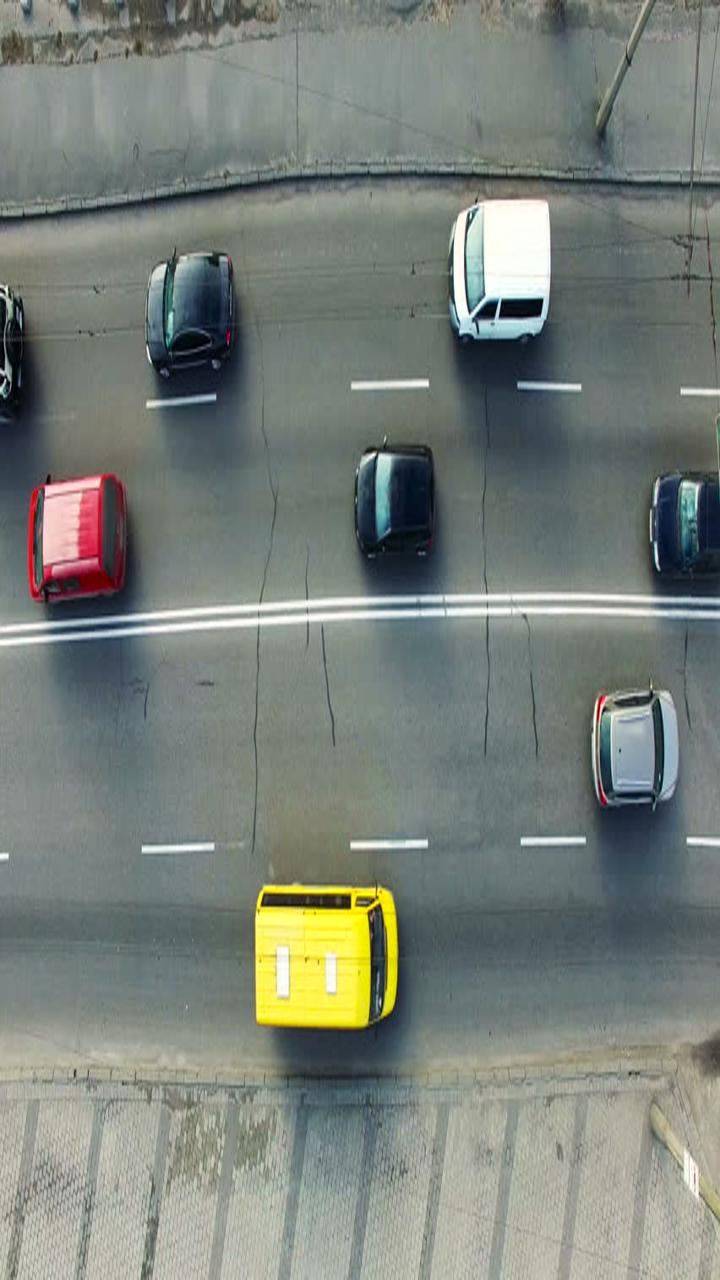vehicle: (228, 872, 434, 1037), (97, 233, 303, 398), (291, 426, 497, 591), (407, 196, 613, 361), (1, 462, 206, 627), (572, 655, 688, 837), (650, 453, 720, 615)
